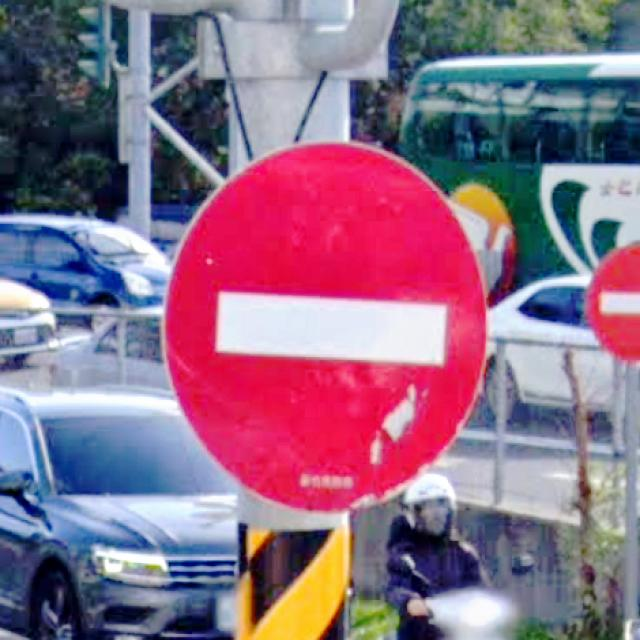noentry: (159, 136, 492, 528)
